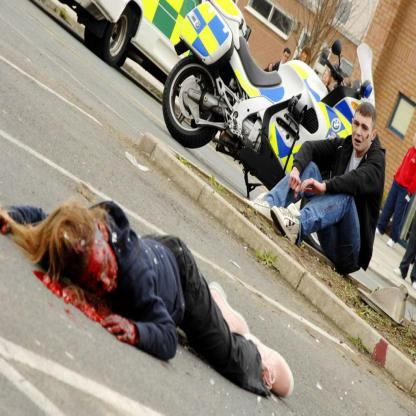face: (83, 242, 119, 294), (353, 112, 373, 151), (324, 72, 330, 83), (302, 51, 308, 61), (284, 53, 290, 63), (269, 64, 273, 71)
